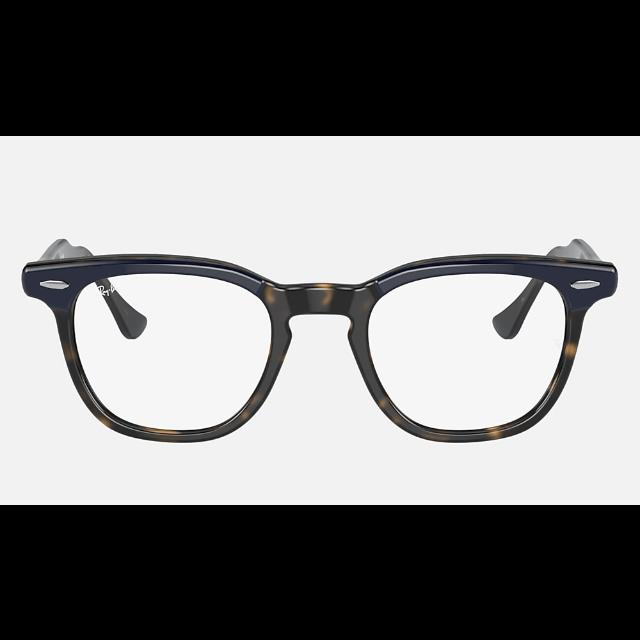glasses: (23, 235, 615, 442)
